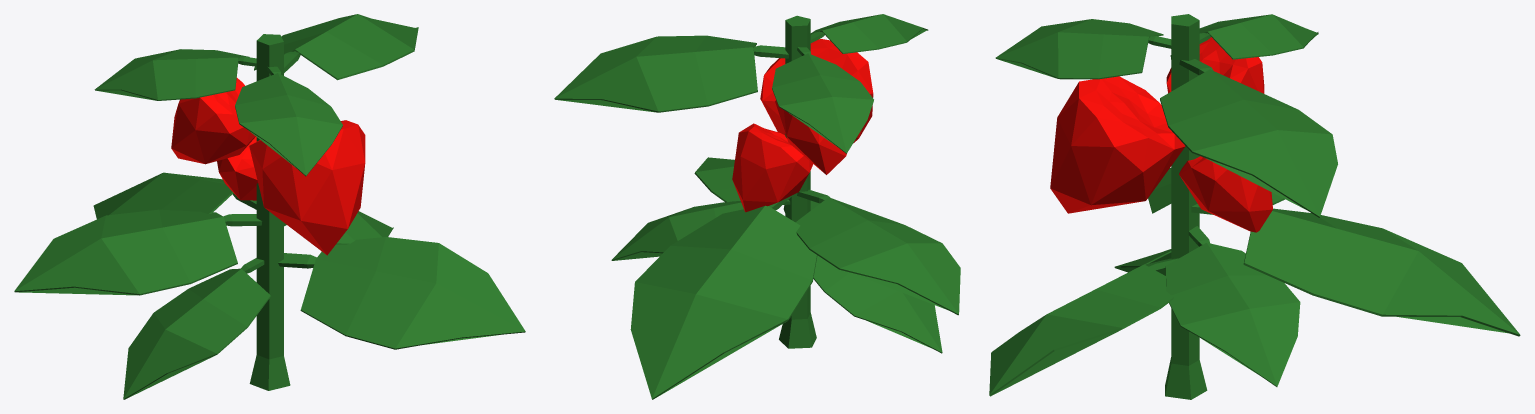
File: StrawberryPlant_Stage_03.fbx
3 views of the same model, side by side, from view 1: azimuth 30°, elevation 25°; view 2: azimuth 150°, elevation 25°; view 3: azimuth 270°, elevation 25° (orthographic). The views are drawn at different scales.
Parts seen in each view (by area): view 1: StrawberryPlant_Stage_03; view 2: StrawberryPlant_Stage_03; view 3: StrawberryPlant_Stage_03.
Boxes of the visible parts, box(x1,y1,x2,y2) form: StrawberryPlant_Stage_03: box(14, 14, 525, 399); StrawberryPlant_Stage_03: box(554, 14, 960, 399); StrawberryPlant_Stage_03: box(989, 14, 1520, 399).
Size of the model in its own units: 316 by 251 by 326.
